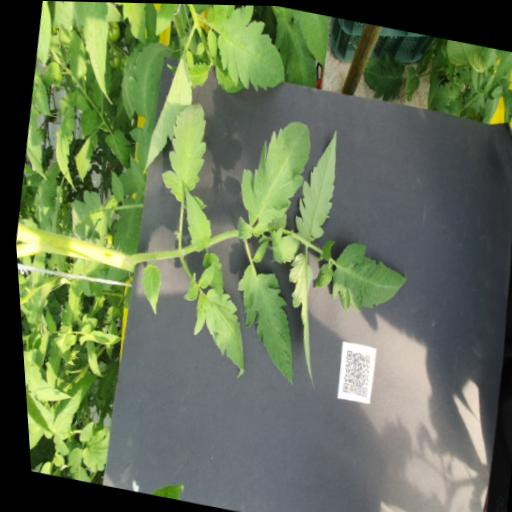Healthy: (215, 260, 306, 385), (226, 109, 315, 234), (108, 35, 179, 173), (193, 3, 296, 96), (132, 43, 201, 181), (263, 248, 331, 388), (51, 1, 132, 104), (320, 237, 408, 322), (283, 123, 342, 242), (149, 96, 213, 205), (179, 285, 252, 378), (42, 102, 88, 191), (40, 365, 94, 440), (16, 100, 61, 182), (170, 186, 215, 254), (32, 322, 70, 391), (110, 2, 154, 46), (67, 126, 99, 185), (190, 251, 225, 303), (205, 54, 247, 95), (59, 28, 92, 80), (261, 222, 299, 266), (96, 127, 136, 168), (130, 262, 160, 315), (70, 320, 118, 353), (51, 277, 80, 327), (74, 339, 105, 378), (150, 3, 181, 37), (120, 152, 146, 190), (181, 57, 210, 90), (102, 168, 126, 203), (306, 259, 330, 293), (74, 106, 96, 141), (190, 257, 212, 289), (176, 269, 197, 302), (200, 27, 219, 61), (230, 214, 251, 243), (246, 237, 265, 263), (315, 235, 332, 260)
